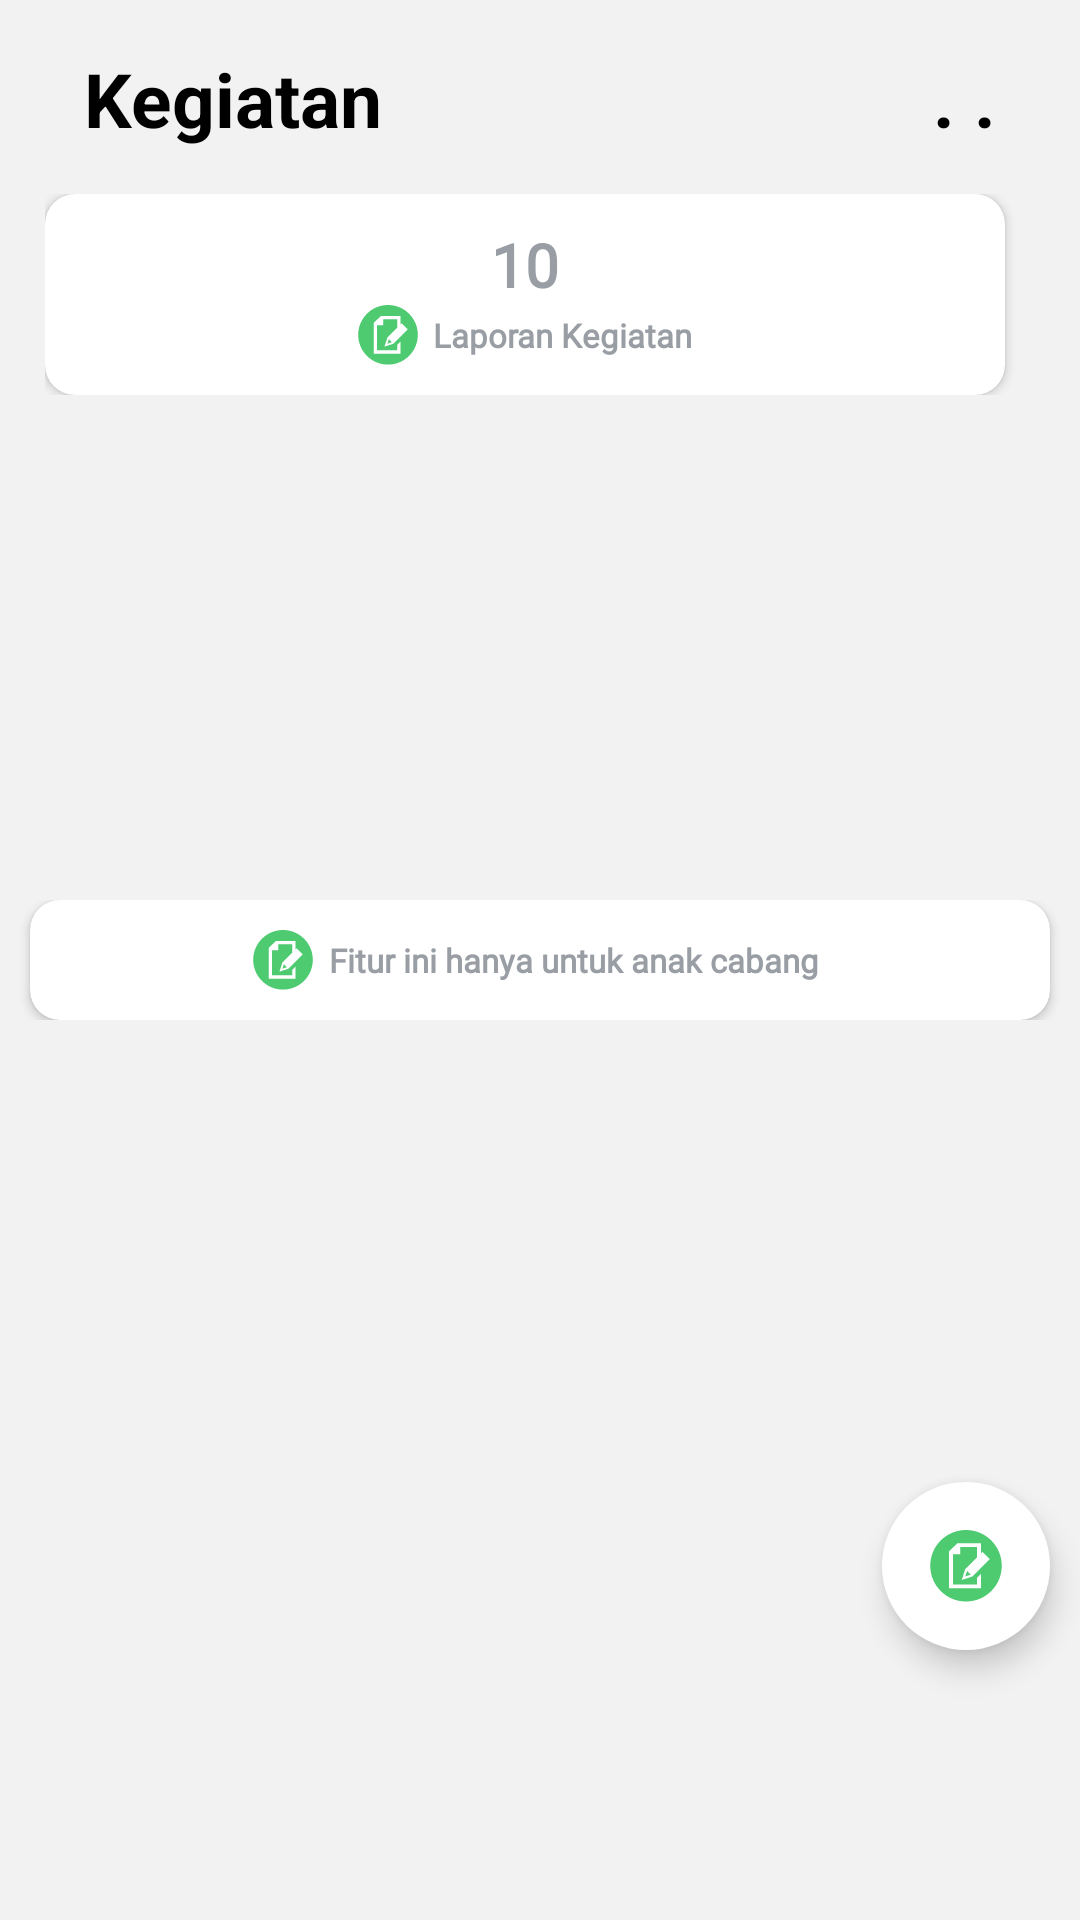

Point at icon controls on the screen. Image size 1080×1920, points as (x=x, y=y).
Kegiatan: (x=966, y=1566)
